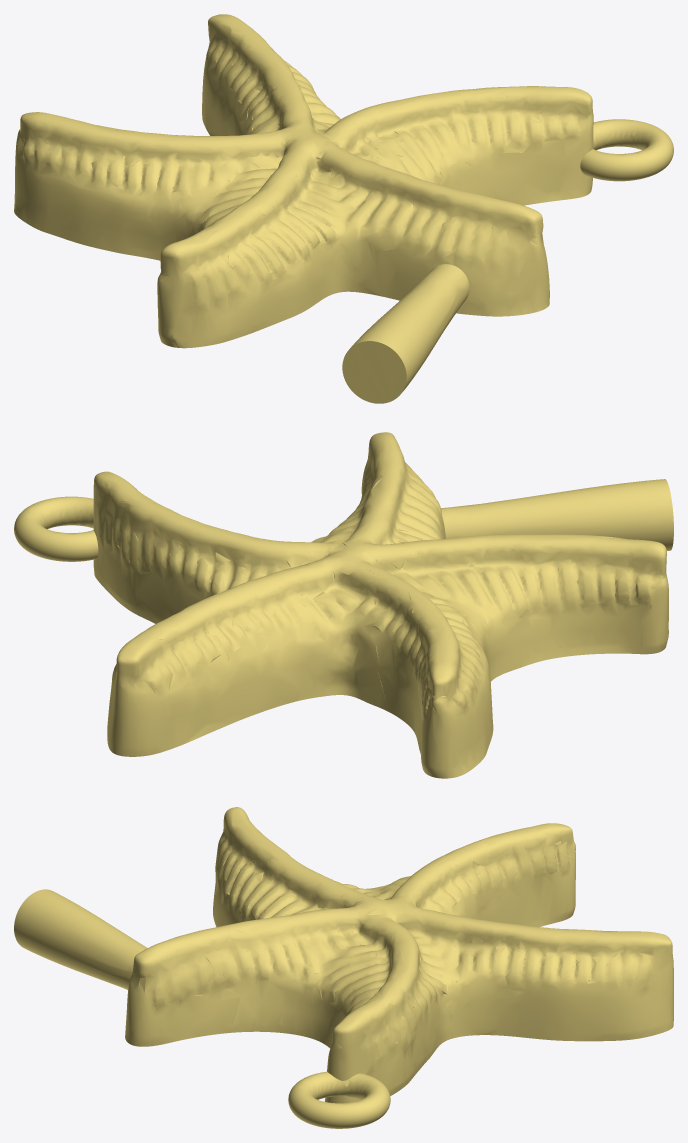
File: shell_02_of_hollow_of_bool.glb
The picture shows the model from 3 angles, top to bottom: view 1: azimuth 30°, elevation 25°; view 2: azimuth 150°, elevation 25°; view 3: azimuth 270°, elevation 25°; orthographic projection. The views are drawn at different scales.
Visible parts, largest first — view 1: Renderer Node; view 2: Renderer Node; view 3: Renderer Node.
Boxes of the visible parts, x1=… form: Renderer Node: x1=14, y1=14, x2=673, y2=403; Renderer Node: x1=14, y1=432, x2=673, y2=778; Renderer Node: x1=14, y1=807, x2=673, y2=1128.
Size of the model in its own units: 14.19 by 2.54 by 15.47.
